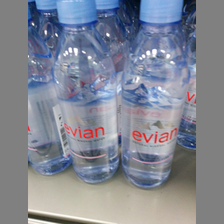water: (119, 1, 188, 190), (52, 1, 119, 183)
